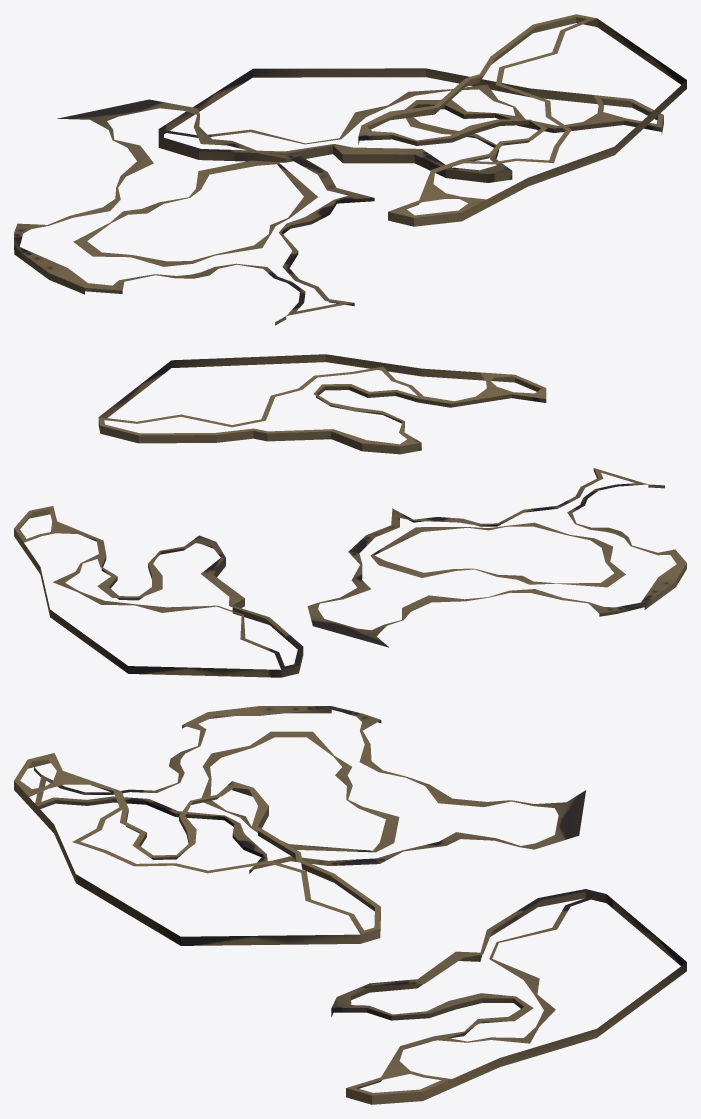
The model's file is Ground_01.FBX.
The picture shows the model from 3 angles, top to bottom: view 1: azimuth 30°, elevation 25°; view 2: azimuth 150°, elevation 25°; view 3: azimuth 270°, elevation 25°; orthographic projection. The views are drawn at different scales.
Visible parts, largest first — view 1: Ground_01; view 2: Ground_01; view 3: Ground_01.
Boxes of the visible parts, x1,y1,x2,y2 form: Ground_01: [14, 14, 686, 325]; Ground_01: [14, 354, 686, 677]; Ground_01: [14, 706, 686, 1104].
Bounding box in the file's own units: 41.26 × 7.53 × 34.26.
